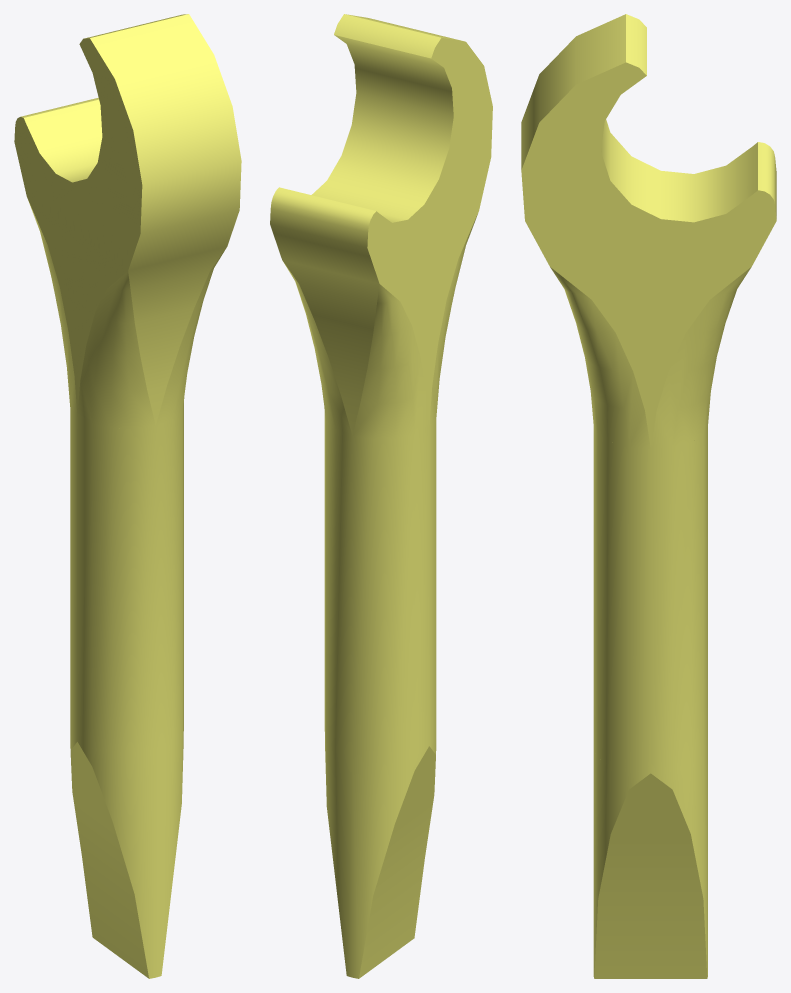
3 views of the same model, side by side, from view 1: azimuth 30°, elevation 25°; view 2: azimuth 150°, elevation 25°; view 3: azimuth 270°, elevation 25° (orthographic).
Visible parts, largest first — view 1: 4006.dat; view 2: 4006.dat; view 3: 4006.dat.
Boxes of the visible parts, x1,y1,x2,y2 form: 4006.dat: (14,14,241,978); 4006.dat: (270,14,492,978); 4006.dat: (521,14,776,978).
Bounding box in the file's own units: 0.0032 × 0.0289 × 0.00714.
